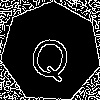Q: (25, 26, 76, 84)
